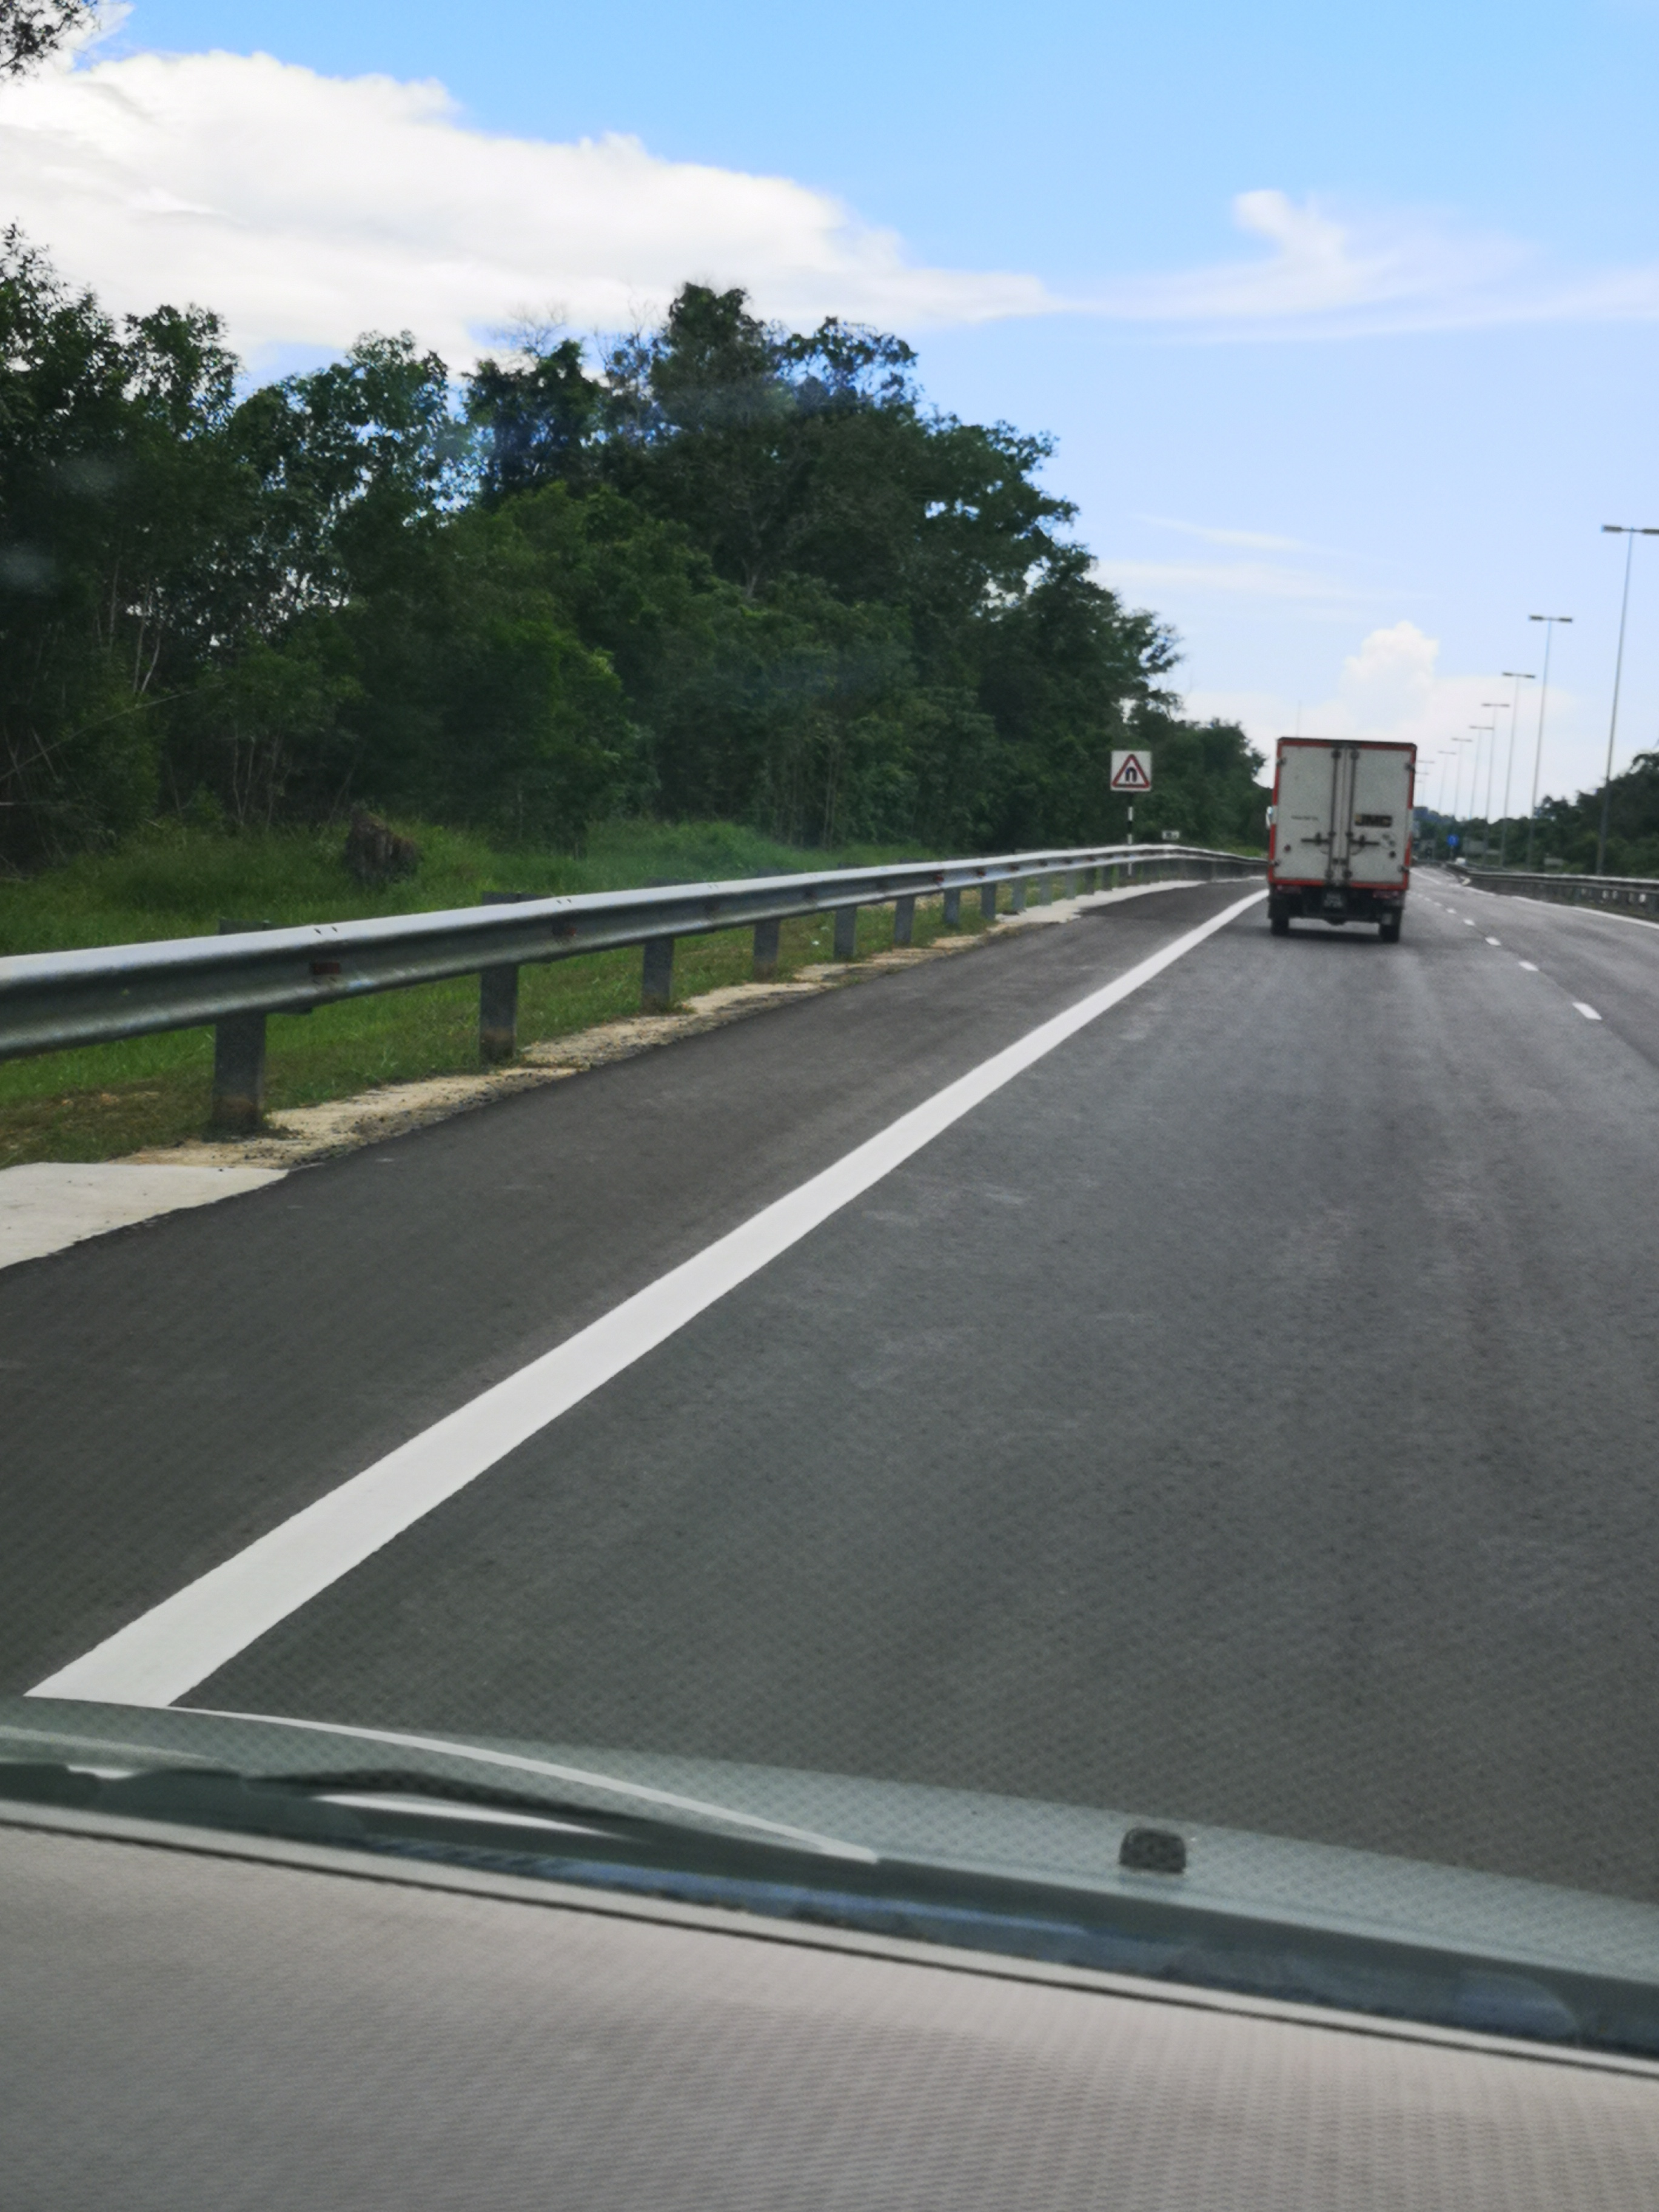U-turn: (1107, 747, 1157, 798)
